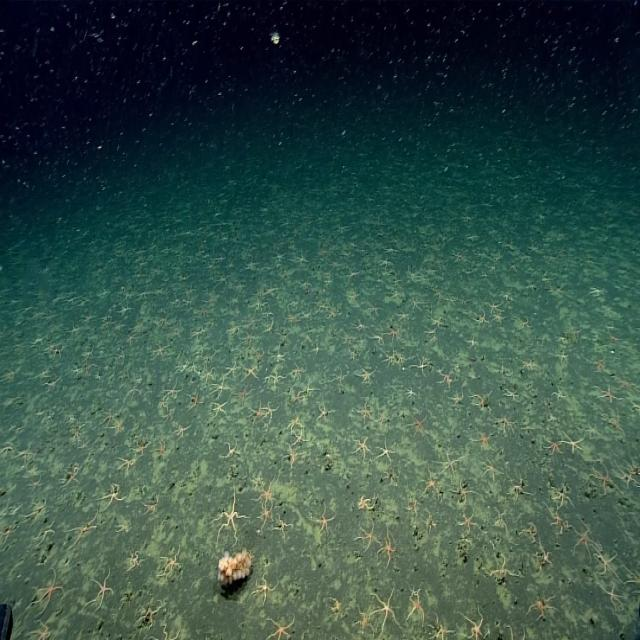brittle-stars: (212, 487, 244, 541), (33, 568, 65, 610), (567, 518, 596, 560), (88, 568, 113, 612), (371, 587, 397, 629), (68, 512, 98, 546), (249, 571, 276, 604), (265, 611, 293, 640), (491, 555, 518, 583), (160, 547, 182, 580), (100, 484, 126, 511), (436, 450, 460, 479), (600, 582, 624, 611), (461, 610, 484, 640), (590, 462, 613, 492), (377, 529, 396, 564), (356, 520, 378, 550), (527, 592, 553, 617), (594, 549, 618, 576), (591, 383, 620, 405), (506, 474, 531, 499), (254, 475, 276, 503), (27, 496, 47, 524), (314, 505, 333, 534), (407, 597, 426, 626), (430, 615, 452, 640), (469, 392, 494, 414), (546, 506, 566, 533), (616, 462, 638, 486), (561, 431, 583, 453), (376, 439, 395, 464), (29, 619, 51, 640), (456, 508, 476, 531), (535, 543, 553, 568), (422, 468, 438, 496), (472, 427, 491, 450), (356, 606, 372, 632), (259, 501, 273, 530), (276, 512, 291, 539), (384, 322, 403, 343), (482, 456, 498, 480), (210, 378, 229, 398), (456, 482, 474, 503), (354, 437, 371, 459), (284, 444, 300, 467), (356, 364, 374, 384), (164, 376, 180, 398), (356, 400, 372, 422), (64, 466, 82, 485), (408, 414, 426, 433), (330, 366, 348, 385), (111, 412, 126, 434), (544, 436, 562, 454), (497, 416, 515, 434), (118, 454, 134, 474), (316, 402, 332, 422), (412, 356, 428, 376), (128, 548, 142, 570), (236, 384, 253, 402), (266, 371, 284, 388), (358, 493, 375, 511), (224, 441, 240, 460), (503, 386, 520, 403), (552, 384, 568, 402), (151, 439, 166, 458), (290, 362, 305, 381), (437, 368, 452, 387), (272, 346, 287, 365), (240, 328, 255, 347), (343, 290, 360, 306), (472, 310, 489, 326), (250, 296, 266, 313), (102, 407, 117, 425), (262, 401, 277, 419), (375, 407, 390, 425), (552, 350, 570, 365), (153, 342, 167, 361), (189, 390, 202, 410), (173, 423, 190, 438), (213, 399, 228, 416), (378, 253, 392, 271), (284, 308, 298, 326), (117, 518, 132, 534), (407, 582, 422, 598), (448, 390, 464, 405), (487, 296, 502, 312), (243, 365, 258, 381), (250, 404, 263, 422), (134, 441, 149, 456), (429, 314, 444, 329), (353, 318, 369, 332), (367, 300, 381, 316), (82, 310, 96, 325), (26, 462, 39, 478), (202, 364, 215, 380), (292, 429, 305, 445), (158, 394, 170, 411), (226, 362, 240, 376), (370, 330, 384, 344), (70, 426, 82, 442), (291, 390, 304, 404), (265, 281, 276, 297), (384, 349, 394, 365), (262, 307, 274, 320), (327, 306, 338, 320), (405, 385, 416, 398), (188, 361, 198, 375)
